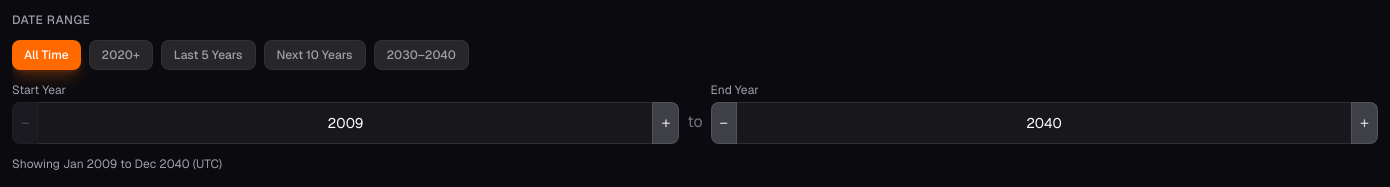
Scenario: controls › increments 2020 to 2021 and back without a timezone shift
Click the button "2020+" at (121, 55), box top-left (89, 40), bottom-right (153, 70)
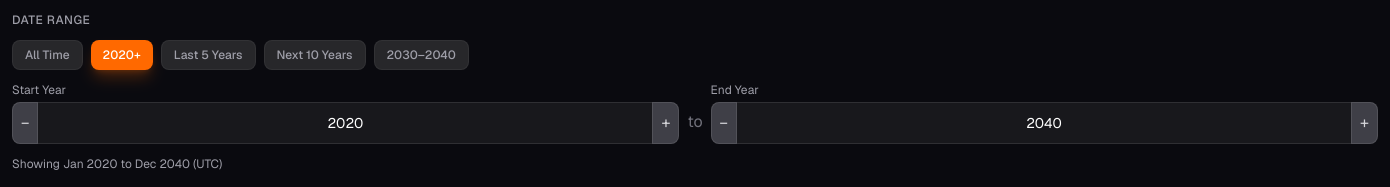
Check: the field labelled "Start Year" holds "2020", box top-left (38, 102), bottom-right (652, 144)
Click the button named "Increase start year" at (666, 123), box top-left (652, 102), bottom-right (679, 144)
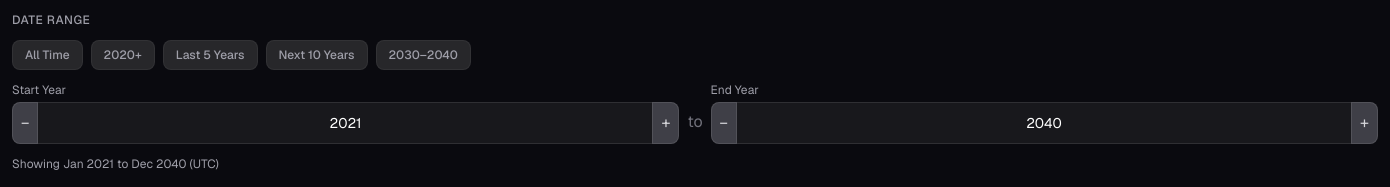
Check: the field labelled "Start Year" holds "2021", box top-left (38, 102), bottom-right (652, 144)
Click the button named "Decrease start year" at (25, 123), box top-left (12, 102), bottom-right (38, 144)
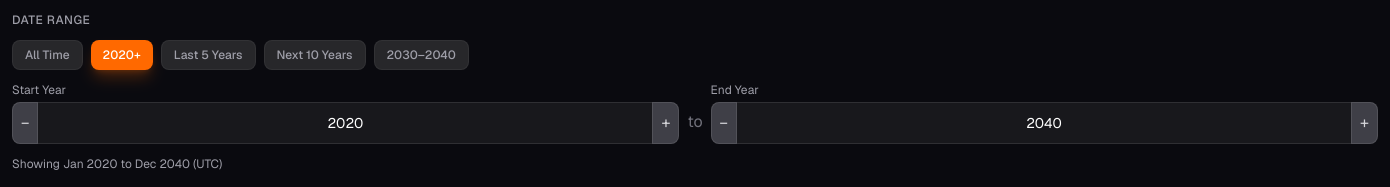
Check: the field labelled "Start Year" holds "2020", box top-left (38, 102), bottom-right (652, 144)
